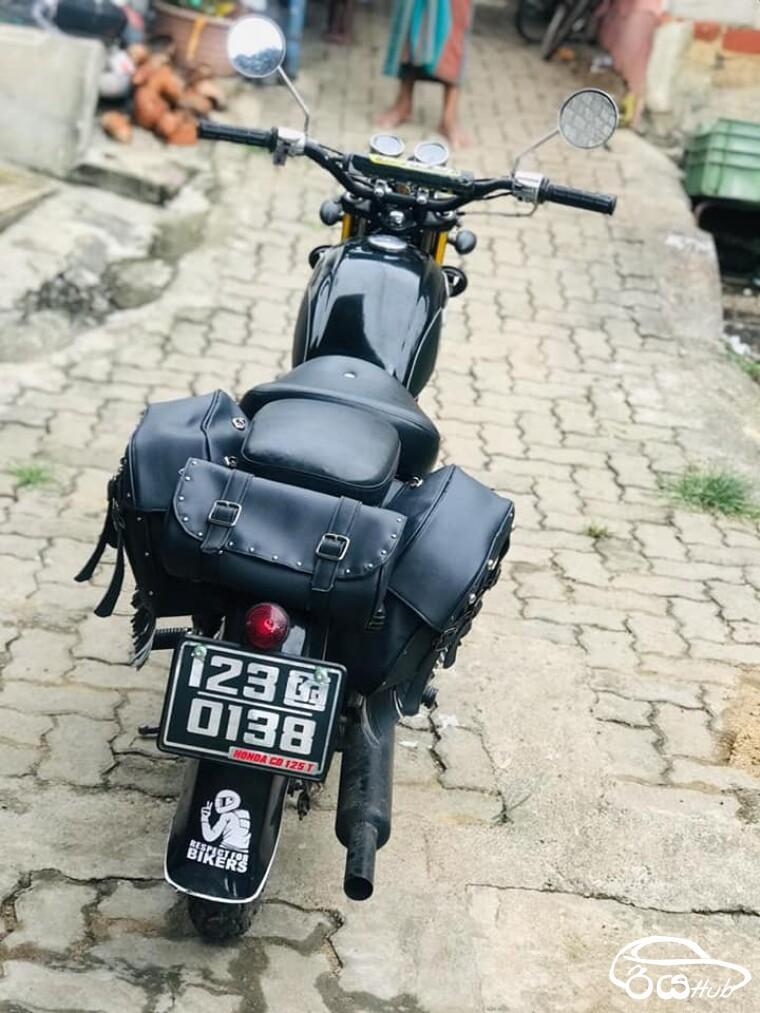motorbike: (114, 13, 621, 939)
